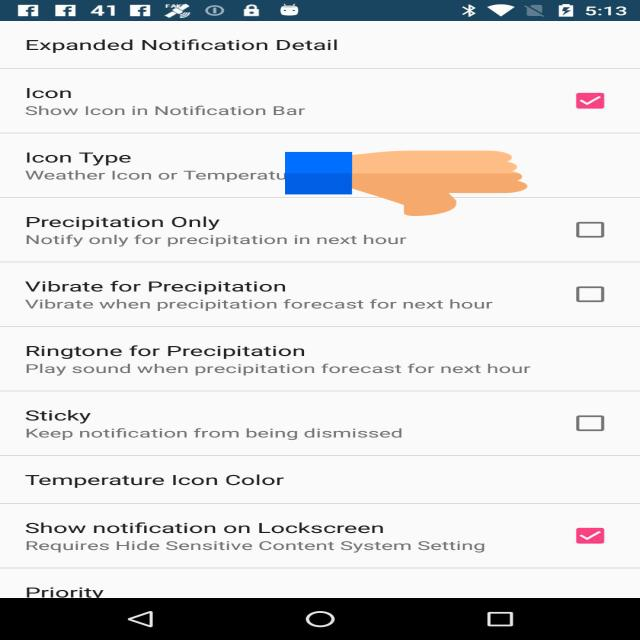obstruction: (285, 149, 527, 218)
